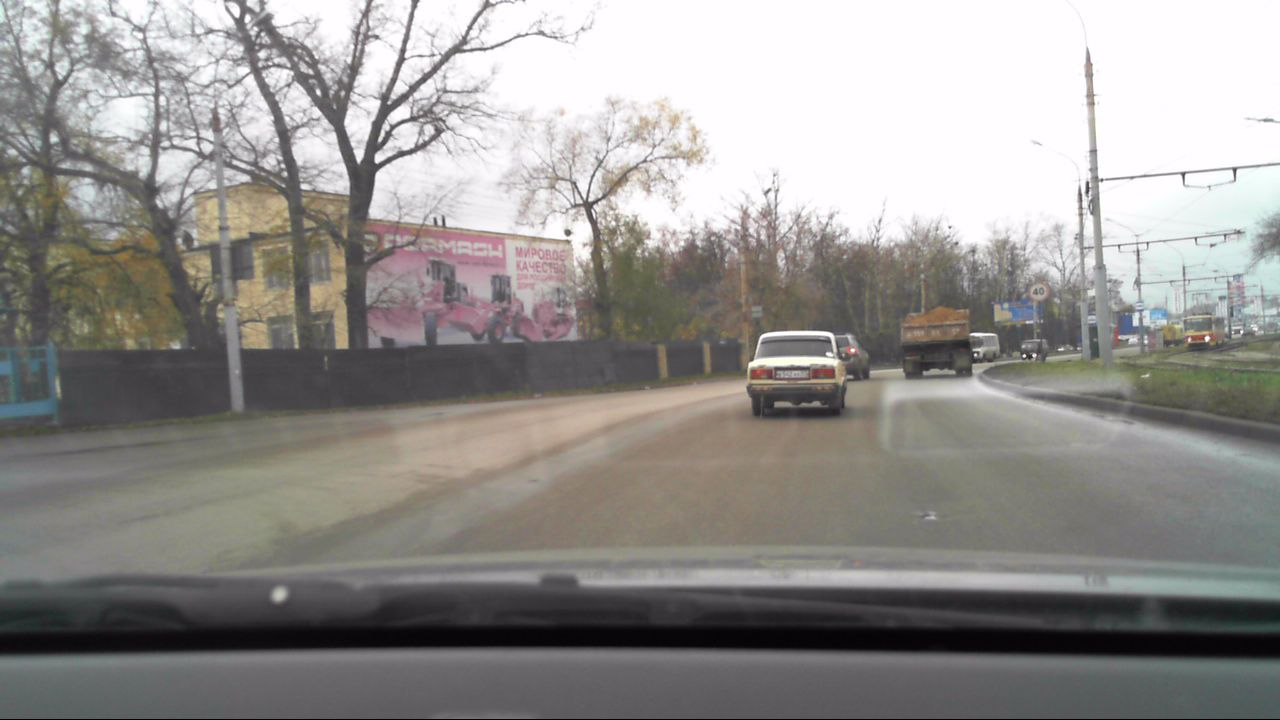speed_warning_40: (1029, 281, 1049, 302)
